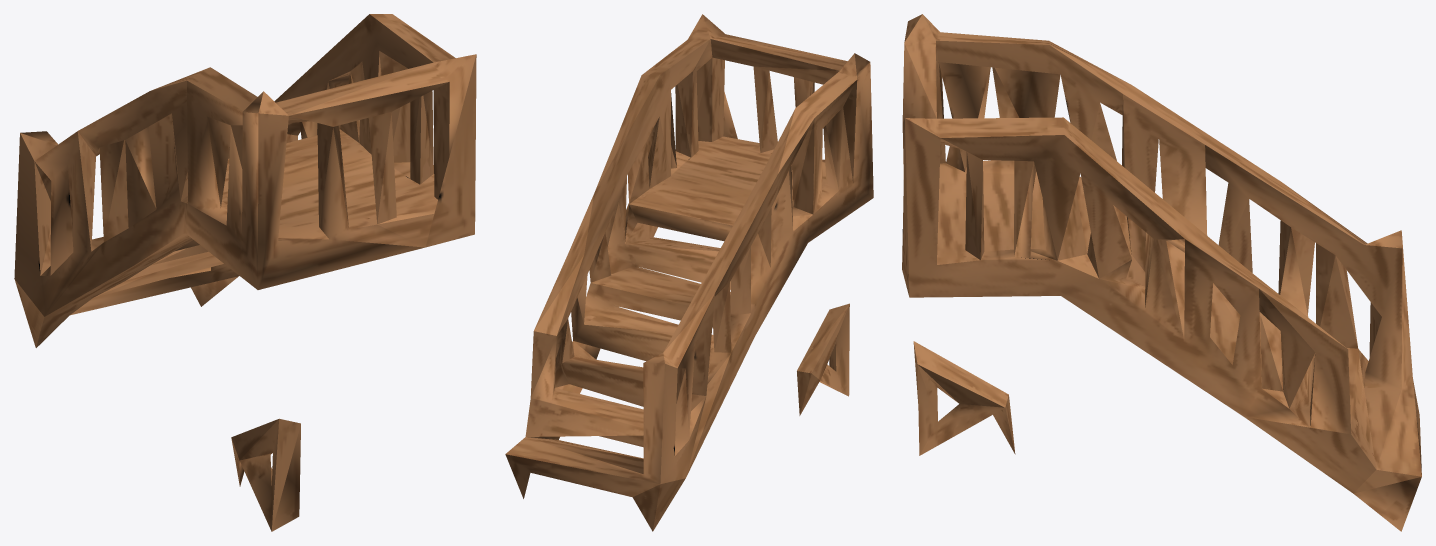
Rendered from oak-stairwell-landing.glb.
3 views of the same model, side by side, from view 1: azimuth 30°, elevation 25°; view 2: azimuth 150°, elevation 25°; view 3: azimuth 270°, elevation 25° (orthographic). The views are drawn at different scales.
Visible parts, largest first — view 1: geometry_0.001; view 2: geometry_0.001; view 3: geometry_0.001.
Part boxes in pixels (x1,y1,x2,y2): geometry_0.001: (14,14,476,531); geometry_0.001: (505,14,873,531); geometry_0.001: (902,14,1421,531).
Bounding box in the file's own units: 0.4814 × 0.9253 × 1.
1 material, 1 textured.
